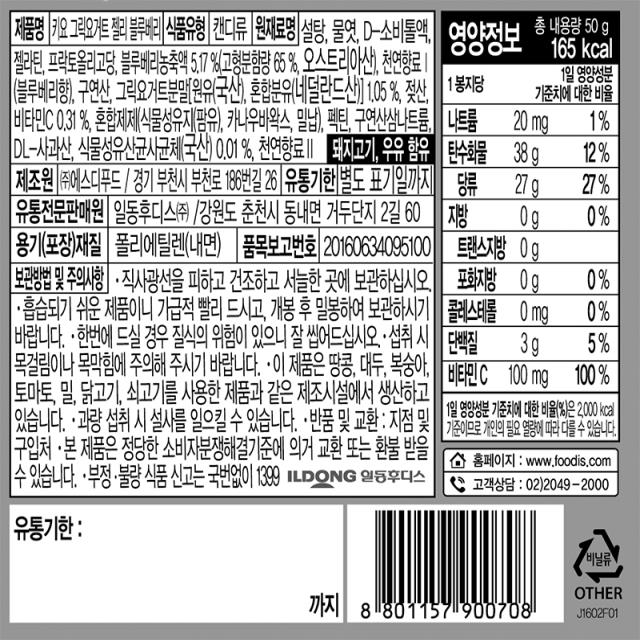Nutrition Label: (435, 3, 640, 446)
